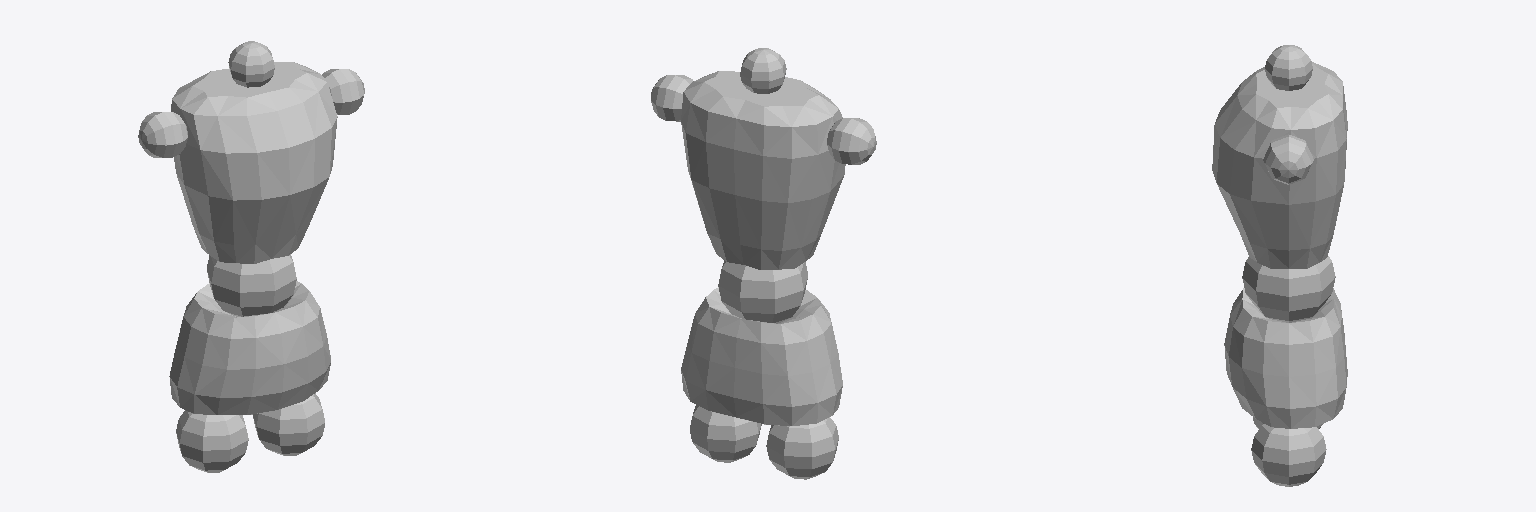
File: body.obj
The picture shows the model from 3 angles: view 1: azimuth 30°, elevation 25°; view 2: azimuth 150°, elevation 25°; view 3: azimuth 270°, elevation 25°; orthographic projection.
Parts seen in each view (by area): view 1: Cylinder.003, Cylinder.002; view 2: Cylinder.003, Cylinder.002; view 3: Cylinder.003, Cylinder.002.
Part boxes in pixels (x1,y1,x2,y2): Cylinder.003: (138, 41, 364, 263); Cylinder.002: (169, 254, 330, 472); Cylinder.003: (651, 48, 876, 269); Cylinder.002: (681, 260, 842, 479); Cylinder.003: (1212, 45, 1347, 268); Cylinder.002: (1224, 256, 1347, 486).
Bounding box in the file's own units: 2.68 × 4.87 × 1.43.